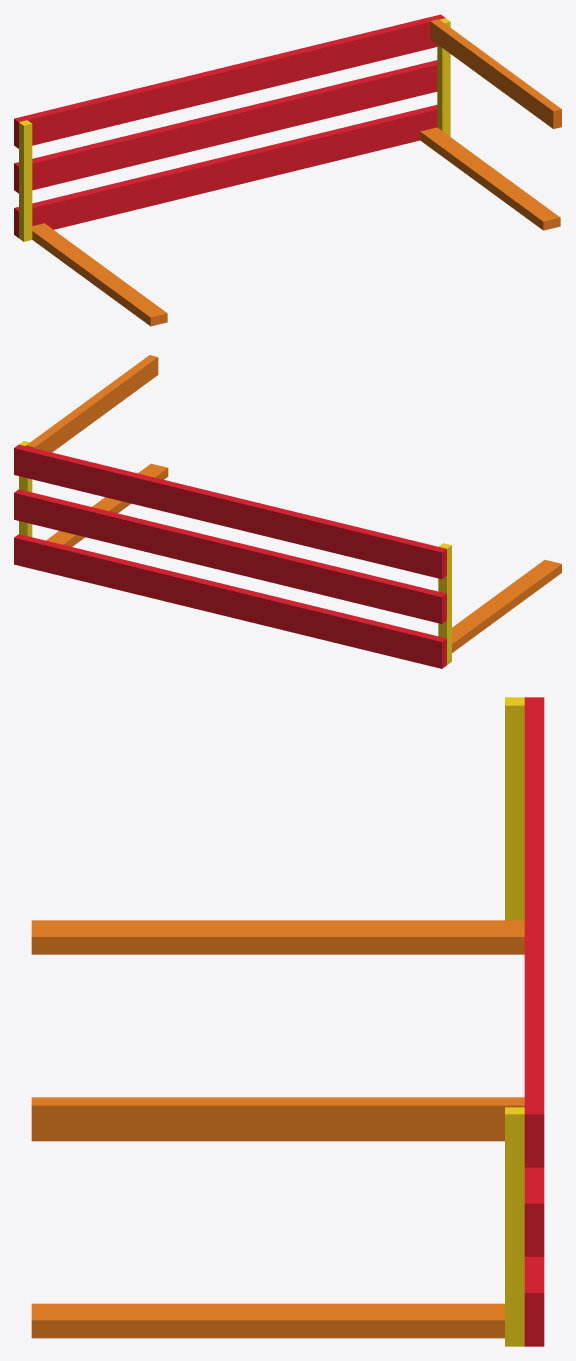
File: tinker.obj
3 views of the same model, one above another, from view 1: azimuth 30°, elevation 25°; view 2: azimuth 150°, elevation 25°; view 3: azimuth 270°, elevation 25° (orthographic). The views are drawn at different scales.
Visible parts, largest first — view 1: group_0_15277357, group_0_16089887, group_0_16768282; view 2: group_0_15277357, group_0_16089887, group_0_16768282; view 3: group_0_16089887, group_0_15277357, group_0_16768282.
Part boxes in pixels (x1,y1,x2,y2): group_0_15277357: (14, 14, 445, 237); group_0_16089887: (32, 19, 561, 326); group_0_16768282: (19, 18, 450, 241); group_0_15277357: (14, 444, 446, 668); group_0_16089887: (26, 355, 561, 652); group_0_16768282: (19, 441, 451, 664); group_0_16089887: (31, 920, 524, 1338); group_0_15277357: (524, 697, 544, 1346); group_0_16768282: (505, 697, 524, 1346).
Size of the model in its own units: 60 by 15.7 by 31.2.
